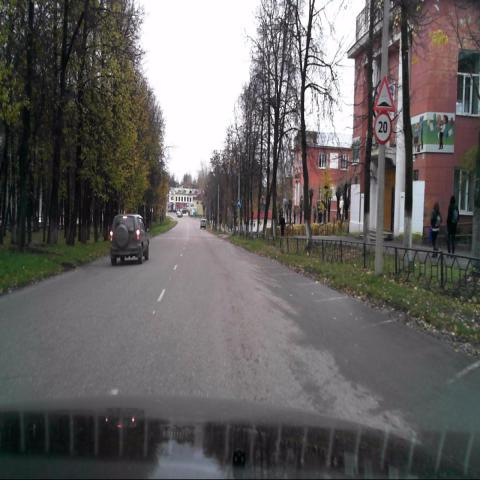1_17: (374, 76, 394, 110)
3_24: (374, 112, 392, 145)
